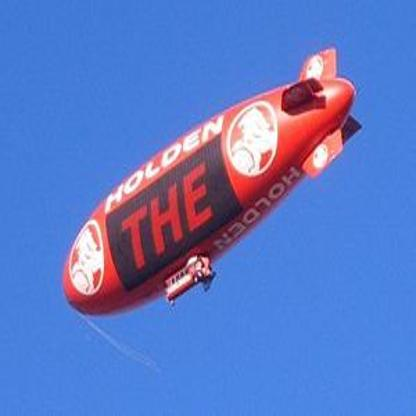Airship: (63, 46, 370, 323)
